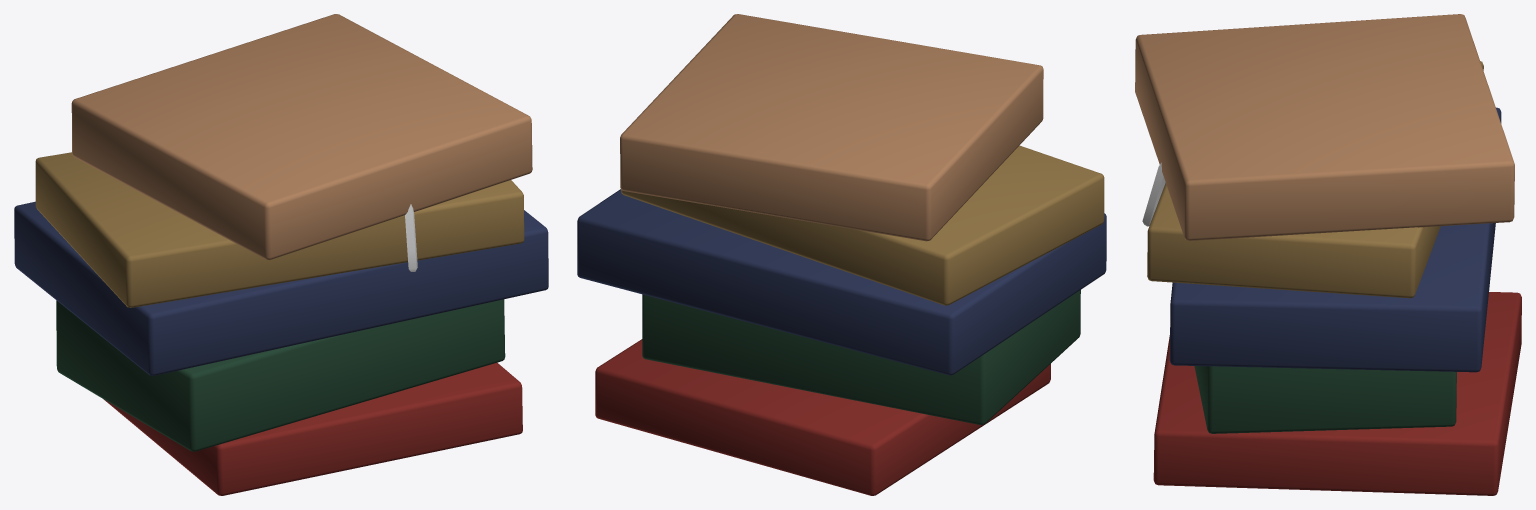
Rendered from book_stack.glb.
3 renders of one model, left to right at view 1: azimuth 30°, elevation 25°; view 2: azimuth 150°, elevation 25°; view 3: azimuth 270°, elevation 25°, orthographic. The views are drawn at different scales.
Visible parts, largest first — view 1: cover, ribbon; view 2: cover; view 3: cover, ribbon.
Part boxes in pixels (box(x1,y1,x2,y2)): cover: box(14, 14, 548, 495); ribbon: box(405, 204, 417, 271); cover: box(577, 14, 1106, 495); cover: box(1135, 14, 1521, 495); ribbon: box(1142, 162, 1165, 226).
Bounding box in the file's own units: 0.2449 × 0.1729 × 0.1898.
